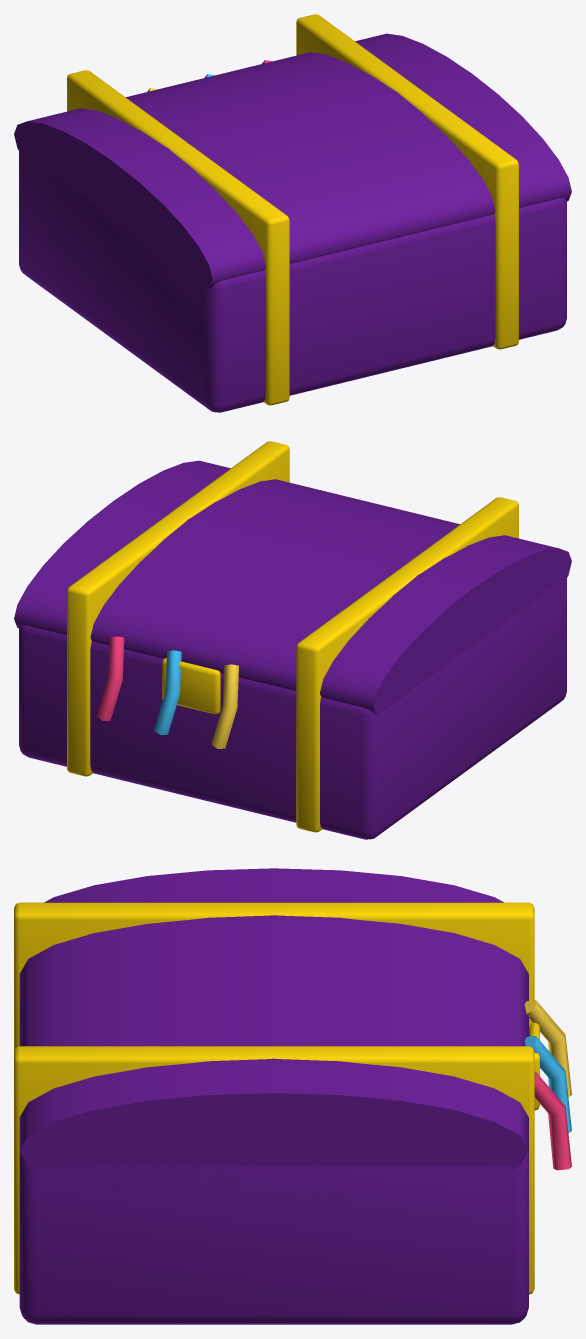
Rendered from costume_trunk.fbx.
The picture shows the model from 3 angles, top to bottom: view 1: azimuth 30°, elevation 25°; view 2: azimuth 150°, elevation 25°; view 3: azimuth 270°, elevation 25°; orthographic projection. The views are drawn at different scales.
Parts seen in each view (by area): view 1: Costume Trunk; view 2: Costume Trunk; view 3: Costume Trunk.
Part boxes in pixels (x1,y1,x2,y2): Costume Trunk: (14, 14, 571, 412); Costume Trunk: (14, 441, 571, 839); Costume Trunk: (14, 868, 571, 1324).
Size of the model in its own units: 1.88 by 0.93 by 1.97.
